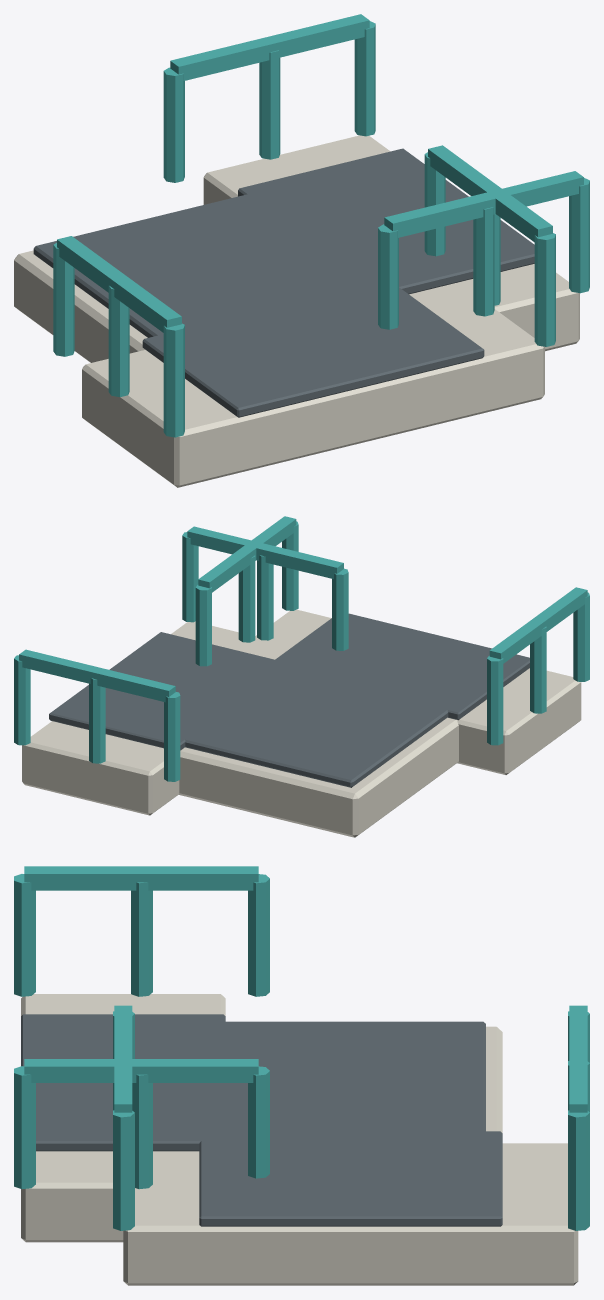
File: BRG_LOCAL_DECK_1x1_CORNER.glb
3 renders of one model, top to bottom at view 1: azimuth 30°, elevation 25°; view 2: azimuth 150°, elevation 25°; view 3: azimuth 270°, elevation 25°, orthographic. The views are drawn at different scales.
Parts seen in each view (by area): view 1: BRG_LOCAL_DECK_1x1_CORNER_Visual; view 2: BRG_LOCAL_DECK_1x1_CORNER_Visual; view 3: BRG_LOCAL_DECK_1x1_CORNER_Visual.
Boxes of the visible parts, x1,y1,x2,y2 form: BRG_LOCAL_DECK_1x1_CORNER_Visual: (14,14,589,487); BRG_LOCAL_DECK_1x1_CORNER_Visual: (14,516,589,837); BRG_LOCAL_DECK_1x1_CORNER_Visual: (14,866,589,1285).
Size of what is drawn, in the model's own units: 1.75 by 0.6075 by 1.75.
